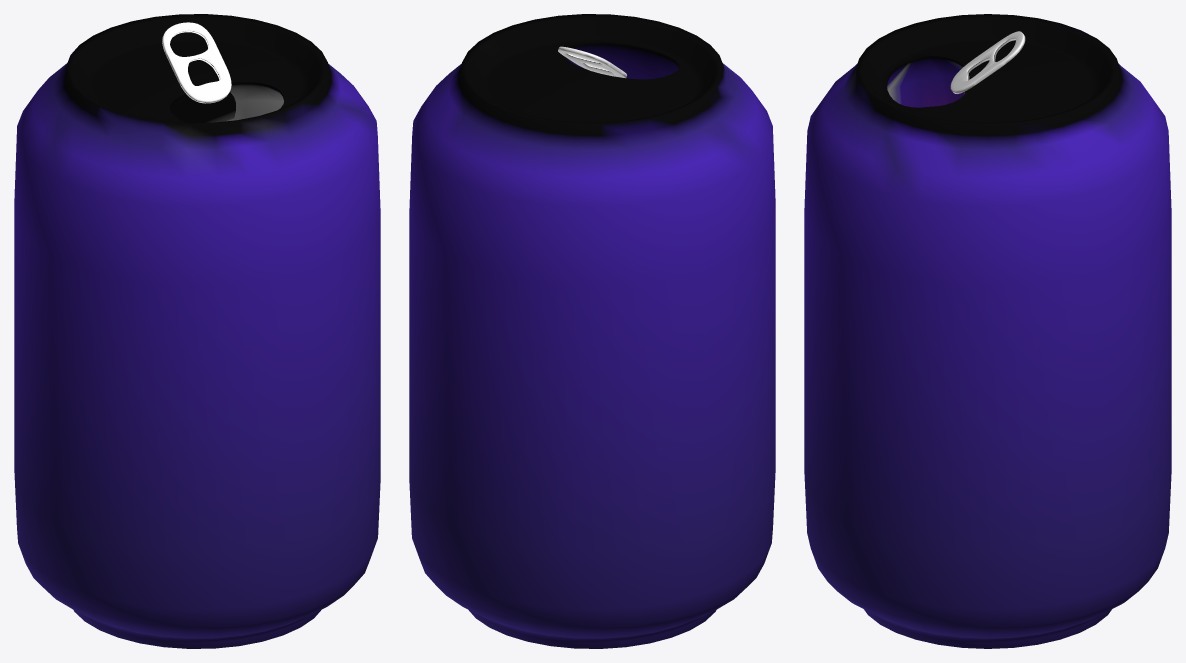
The model's file is opened_soda_can.glb.
The picture shows the model from 3 angles, left to right: view 1: azimuth 30°, elevation 25°; view 2: azimuth 150°, elevation 25°; view 3: azimuth 270°, elevation 25°; orthographic projection.
Parts seen in each view (by area): view 1: Cylinder, Cube__0; view 2: Cylinder, Cube__0; view 3: Cylinder, Cube__0.
Boxes of the visible parts, x1,y1,x2,y2 form: Cylinder: (14, 14, 380, 648); Cube__0: (162, 22, 231, 103); Cylinder: (409, 14, 775, 648); Cube__0: (558, 46, 626, 78); Cylinder: (804, 14, 1171, 648); Cube__0: (950, 31, 1025, 93).
Size of the model in its own units: 1.99 by 3.33 by 1.99.
